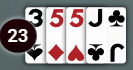3: (26, 8, 46, 29)
5: (46, 7, 65, 28), (66, 7, 84, 29)
j: (86, 7, 105, 30)
